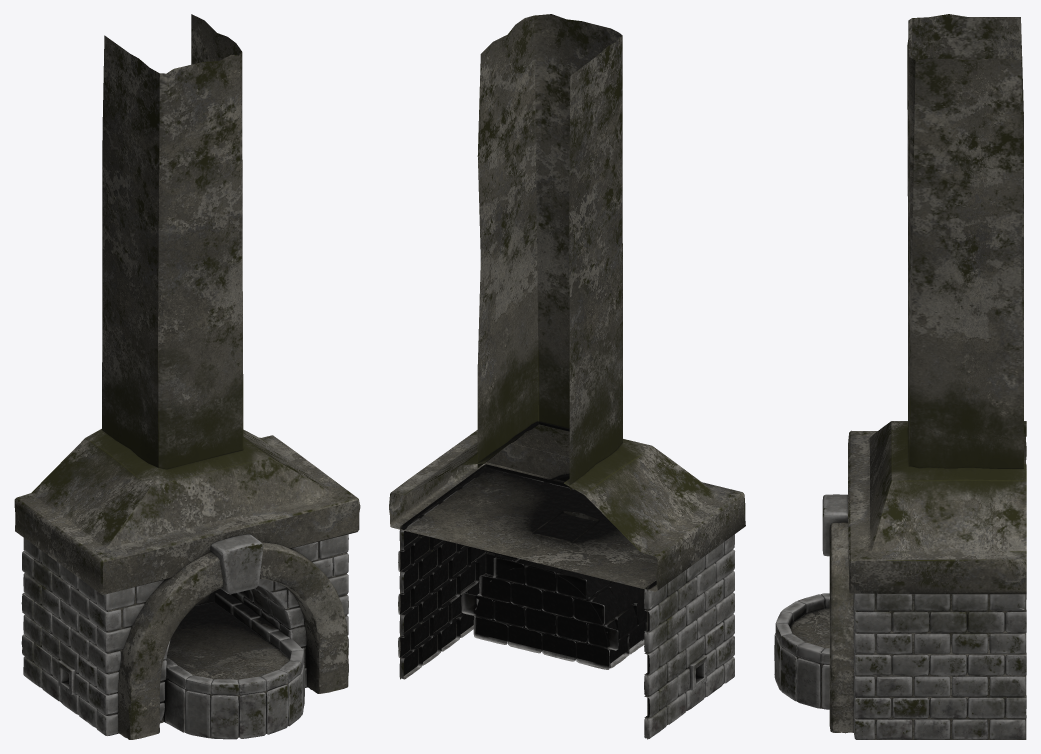
The model's file is forge.fbx.
The picture shows the model from 3 angles, left to right: view 1: azimuth 30°, elevation 25°; view 2: azimuth 150°, elevation 25°; view 3: azimuth 270°, elevation 25°; orthographic projection. The views are drawn at different scales.
Visible parts, largest first — view 1: Forge; view 2: Forge; view 3: Forge.
Part boxes in pixels (x1=…): Forge: x1=14, y1=14, x2=360, y2=739; Forge: x1=389, y1=14, x2=745, y2=739; Forge: x1=774, y1=14, x2=1026, y2=739.
Size of the model in its own units: 334 by 768 by 273.
